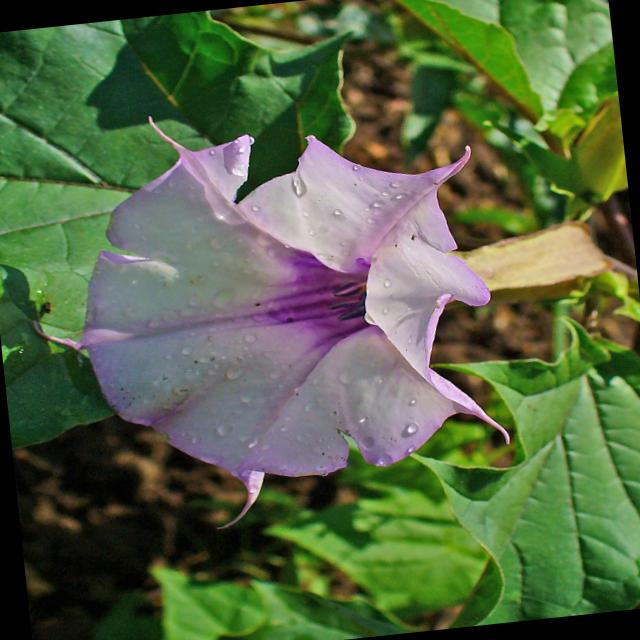Poisonous-Datura_Stramonium: (48, 110, 540, 533)
